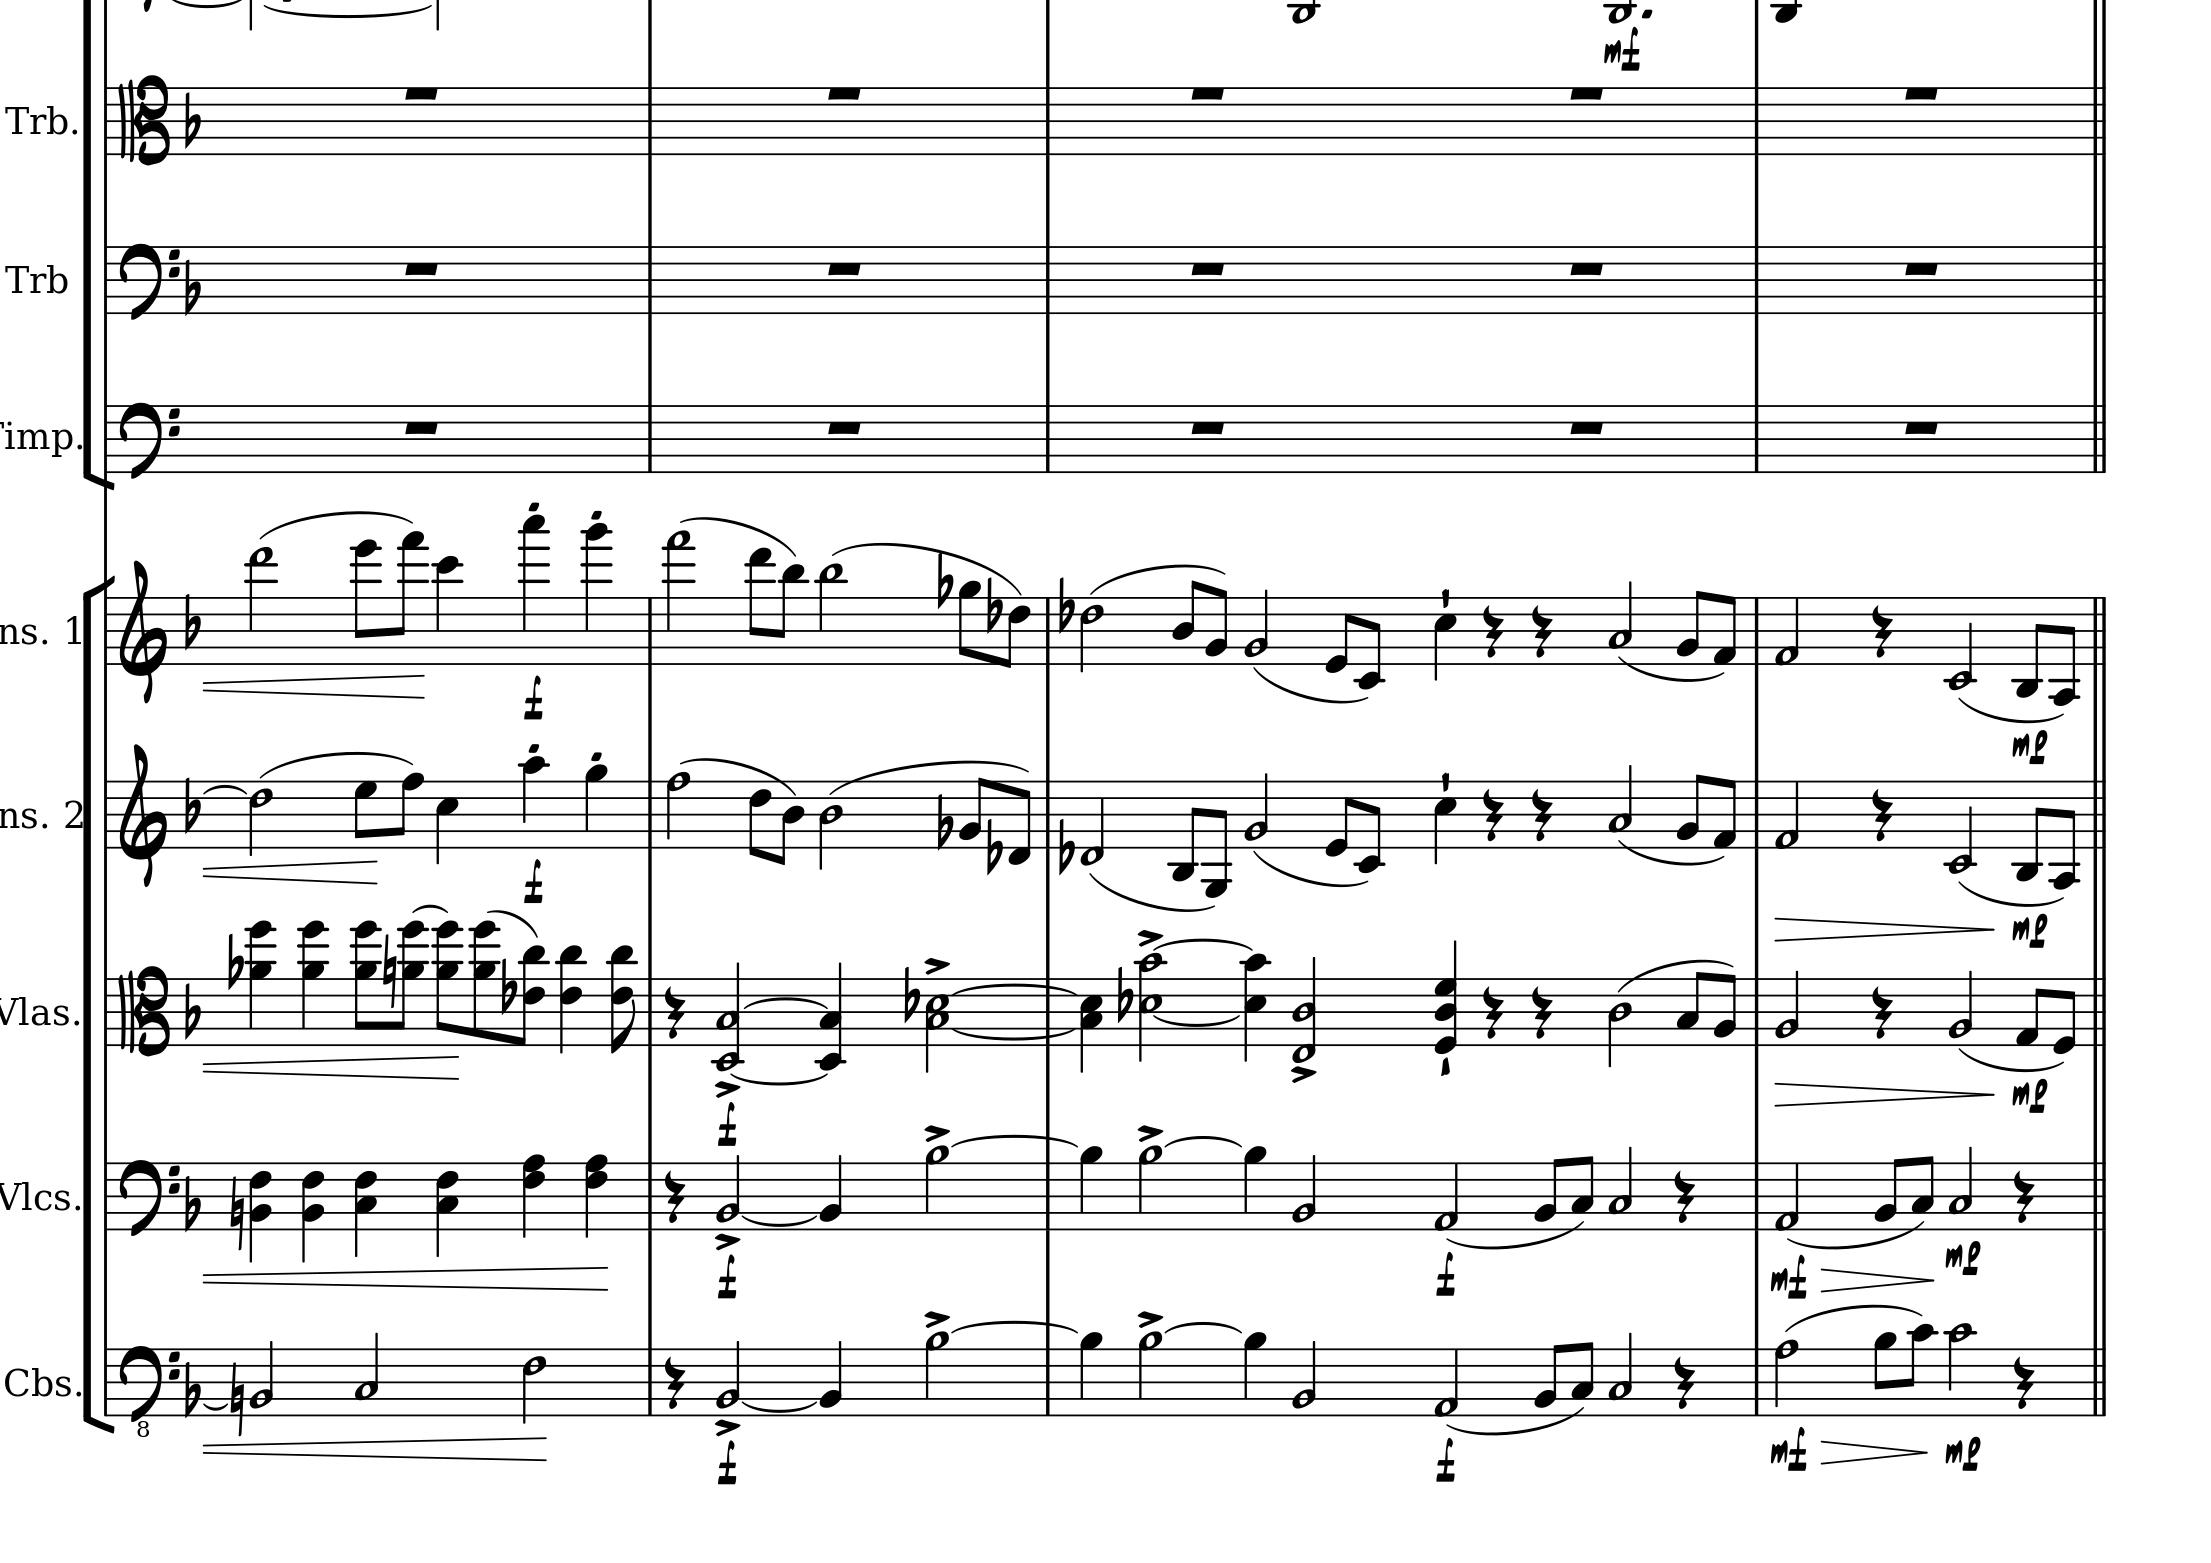2_-1: (1078, 776, 1110, 864)
2_-1_4: (1291, 957, 1319, 1066)
2_-2: (1945, 594, 1974, 690), (1945, 780, 1974, 875)
2_-2_3: (709, 961, 748, 1072)
2_1: (1771, 1160, 1802, 1233), (1771, 778, 1802, 849), (1433, 1160, 1462, 1235), (1773, 594, 1802, 666), (1433, 1346, 1460, 1418)
2_10: (1945, 1321, 1976, 1421)
2_11: (815, 562, 846, 668)
2_15: (663, 529, 694, 666)
2_2: (1243, 585, 1272, 670), (1243, 770, 1272, 853), (1773, 968, 1802, 1049), (1291, 1152, 1319, 1233), (1947, 968, 1974, 1049), (249, 1338, 276, 1418), (1291, 1338, 1318, 1418), (716, 1154, 743, 1231), (714, 1340, 741, 1418)
2_3: (1605, 761, 1634, 851), (352, 1331, 381, 1418), (1607, 579, 1634, 666), (1607, 1143, 1634, 1231), (1607, 1330, 1634, 1418), (1947, 1145, 1974, 1231)
2_3_5: (924, 978, 952, 1074)
2_4: (1605, 976, 1634, 1069), (819, 778, 846, 873)
2_5_10: (1137, 952, 1169, 1061)
2_6: (1079, 594, 1106, 673), (247, 778, 272, 858), (521, 1346, 546, 1426)
2_8: (1773, 1336, 1802, 1419), (665, 770, 690, 851)
2_9: (1137, 1143, 1164, 1233), (924, 1143, 951, 1231), (1135, 1331, 1162, 1418), (924, 1330, 949, 1418)
4_-2_3: (810, 961, 849, 1072)
4_10: (519, 754, 548, 851)
4_12: (431, 555, 462, 666)
4_13: (245, 545, 276, 668)
4_16: (580, 523, 614, 665)
4_17: (518, 514, 548, 665)
4_2: (819, 1152, 844, 1231), (819, 1338, 844, 1418)
4_2_6: (247, 1160, 276, 1264), (352, 1162, 381, 1264), (299, 1160, 326, 1264), (435, 1160, 462, 1264)
4_3_5: (1078, 978, 1106, 1076)
4_5: (1433, 776, 1458, 868), (1433, 594, 1458, 682), (435, 780, 460, 866)
4_5_10: (1238, 952, 1274, 1064)
4_6_11: (555, 946, 587, 1056)
4_6_8: (521, 1154, 548, 1238), (584, 1154, 611, 1238)
4_9: (1078, 1143, 1105, 1233), (1242, 1143, 1269, 1233), (1078, 1330, 1105, 1418), (1242, 1330, 1269, 1418), (584, 763, 609, 849)
4_9_14: (245, 920, 277, 1047), (298, 920, 330, 1047)
8_-1: (1007, 778, 1034, 864)
8_-2: (1355, 778, 1385, 875), (1357, 595, 1385, 690)
8_-3: (1171, 776, 1204, 881), (2013, 595, 2045, 699), (2015, 778, 2045, 883)
8_-4: (2049, 595, 2077, 705), (2050, 778, 2077, 888)
8_-5: (1203, 775, 1232, 898)
8_0: (1325, 776, 1355, 858), (1325, 594, 1355, 673), (2054, 976, 2077, 1056)
8_1: (2015, 974, 2045, 1049), (1712, 592, 1737, 668), (1712, 776, 1737, 853)
8_10: (1903, 1323, 1935, 1418)
8_11: (775, 562, 807, 666)
8_13: (746, 546, 775, 666)
8_14: (350, 540, 381, 665)
8_15: (392, 529, 425, 665)
8_2: (957, 775, 990, 849), (1675, 589, 1705, 666), (1675, 771, 1705, 849), (1531, 1155, 1561, 1231), (1873, 1155, 1903, 1231), (1533, 1341, 1561, 1418), (1204, 584, 1230, 666), (1714, 973, 1737, 1047)
8_3: (1675, 969, 1705, 1045), (1570, 1154, 1594, 1233), (1570, 1340, 1594, 1419), (1912, 1154, 1934, 1231)
8_4: (775, 778, 805, 868), (1172, 579, 1203, 666)
8_6: (1001, 597, 1032, 670), (748, 780, 771, 859)
8_6_11: (606, 942, 639, 1056), (514, 944, 550, 1047)
8_7: (354, 780, 377, 849)
8_8: (391, 770, 425, 849)
8_9: (956, 580, 981, 666), (1873, 1330, 1896, 1418)
8_9_14: (396, 920, 430, 1047), (470, 920, 502, 1049), (350, 920, 382, 1047), (431, 920, 464, 1047)
Accent_above: (1133, 925, 1166, 947), (922, 954, 952, 974), (1137, 1122, 1164, 1143), (1135, 1308, 1164, 1328), (1287, 1064, 1318, 1083), (924, 1122, 951, 1142), (924, 1308, 951, 1328), (712, 1231, 744, 1248), (712, 1079, 743, 1096), (712, 1418, 743, 1434)
Cbs: (7, 1362, 69, 1397)
Cclef: (113, 73, 169, 167), (115, 964, 169, 1059)
Crescendo_hairpin: (1819, 1264, 1932, 1292), (1819, 1438, 1927, 1467)
Diminuendo_hairpin: (1769, 1079, 1996, 1106), (1776, 917, 1996, 942)
Double_barline: (2088, 595, 2111, 663), (2088, 978, 2111, 1045), (2088, 780, 2110, 847), (2088, 1162, 2110, 1228)
Fclef: (117, 399, 184, 485), (118, 240, 183, 320), (118, 1159, 179, 1238)
Final_barline: (2086, 86, 2111, 154), (2086, 245, 2111, 313), (2086, 404, 2111, 472), (2088, 1348, 2111, 1416)
Flat: (181, 90, 206, 152), (183, 255, 206, 316), (1115, 962, 1137, 1027), (181, 775, 203, 836), (183, 1172, 205, 1233), (183, 1358, 205, 1419), (934, 790, 954, 853), (181, 590, 201, 651), (183, 979, 203, 1040), (985, 815, 1003, 876), (1056, 815, 1074, 876), (985, 573, 1003, 633), (902, 964, 920, 1023), (935, 550, 952, 611), (1057, 573, 1074, 634), (227, 930, 244, 991), (501, 956, 518, 1017)
Gclef: (117, 558, 167, 704), (118, 741, 167, 886)
Lower_Fclef: (118, 1341, 179, 1440)
Natural: (227, 1174, 245, 1253), (228, 1362, 245, 1438), (381, 937, 398, 1006)
Rests1: (1186, 414, 1230, 438), (824, 414, 866, 438), (399, 81, 443, 103), (1186, 81, 1230, 103), (1565, 81, 1609, 103), (1900, 81, 1942, 103), (824, 257, 866, 279), (1900, 414, 1942, 436), (824, 81, 864, 103), (1565, 257, 1609, 277), (399, 416, 443, 436), (1565, 416, 1609, 436), (399, 257, 442, 277), (1188, 257, 1230, 277), (1900, 257, 1942, 277)
Rests4: (1528, 602, 1555, 660), (1479, 983, 1506, 1040), (1480, 601, 1506, 660), (1869, 602, 1895, 660), (661, 983, 687, 1040), (1480, 785, 1506, 842), (1869, 983, 1895, 1040), (661, 1167, 687, 1225), (1671, 1167, 1697, 1225), (2010, 1167, 2035, 1225), (661, 1353, 687, 1411), (1671, 1353, 1697, 1411), (1529, 787, 1555, 842), (1869, 787, 1895, 842), (2011, 1353, 2035, 1411), (1529, 984, 1553, 1040)
Single_barline: (1039, 1160, 1061, 1228), (1039, 1346, 1061, 1414), (639, 1160, 660, 1230), (639, 86, 660, 154), (96, 86, 117, 152), (1747, 245, 1768, 311), (639, 245, 660, 311), (96, 978, 117, 1044), (98, 404, 117, 475), (1039, 595, 1057, 665), (1747, 1160, 1766, 1230), (1039, 86, 1057, 154), (1039, 404, 1057, 472), (641, 1346, 660, 1414), (1747, 86, 1766, 152), (1039, 245, 1057, 311), (98, 245, 117, 311), (641, 404, 660, 470), (1747, 404, 1766, 470), (1039, 979, 1057, 1044), (98, 1164, 117, 1228), (100, 595, 117, 665), (1747, 595, 1764, 665), (643, 780, 660, 847), (1039, 780, 1056, 847), (1747, 780, 1764, 847), (1749, 1346, 1766, 1414), (641, 597, 658, 663), (100, 1348, 117, 1414), (100, 780, 115, 847), (643, 978, 658, 1045), (1749, 978, 1764, 1045)
Slur: (678, 513, 798, 560), (675, 754, 798, 798), (1088, 871, 1216, 912), (259, 507, 413, 540), (266, 748, 416, 778), (1252, 847, 1369, 886), (1088, 562, 1228, 594), (1254, 665, 1365, 704), (1786, 1220, 1928, 1248), (1617, 957, 1737, 991), (1788, 1304, 1934, 1331), (1445, 1220, 1587, 1247), (1446, 1406, 1583, 1433), (1617, 837, 1724, 866), (1957, 695, 2066, 722), (1617, 655, 1724, 682), (1957, 880, 2064, 907), (1957, 1044, 2064, 1071), (946, 1319, 1079, 1335), (947, 1133, 1078, 1149), (947, 983, 1084, 996), (947, 1027, 1078, 1040), (487, 907, 540, 939), (1154, 937, 1257, 952), (729, 1072, 831, 1084), (1166, 1319, 1242, 1335), (1150, 1013, 1242, 1025), (743, 996, 831, 1008), (1164, 1135, 1242, 1147), (739, 1399, 815, 1411), (739, 1215, 819, 1225), (201, 783, 247, 797), (413, 902, 450, 915), (200, 1402, 230, 1411)
Trb: (2, 95, 69, 142), (2, 255, 69, 303)
Vla: (2, 991, 51, 1034)
Vlc: (2, 1172, 54, 1218)
dot: (1639, 5, 1654, 20)
f: (521, 673, 545, 721), (521, 858, 545, 905), (1433, 1250, 1457, 1297), (1433, 1436, 1457, 1483), (716, 1438, 738, 1487), (716, 1100, 738, 1147), (716, 1253, 738, 1301)
mf: (1768, 1252, 1808, 1301), (1602, 25, 1643, 73), (1769, 1424, 1808, 1473)
mp: (2011, 908, 2050, 949), (2011, 1074, 2050, 1115), (1944, 1434, 1984, 1473), (2011, 726, 2050, 765), (1944, 1238, 1984, 1275)
